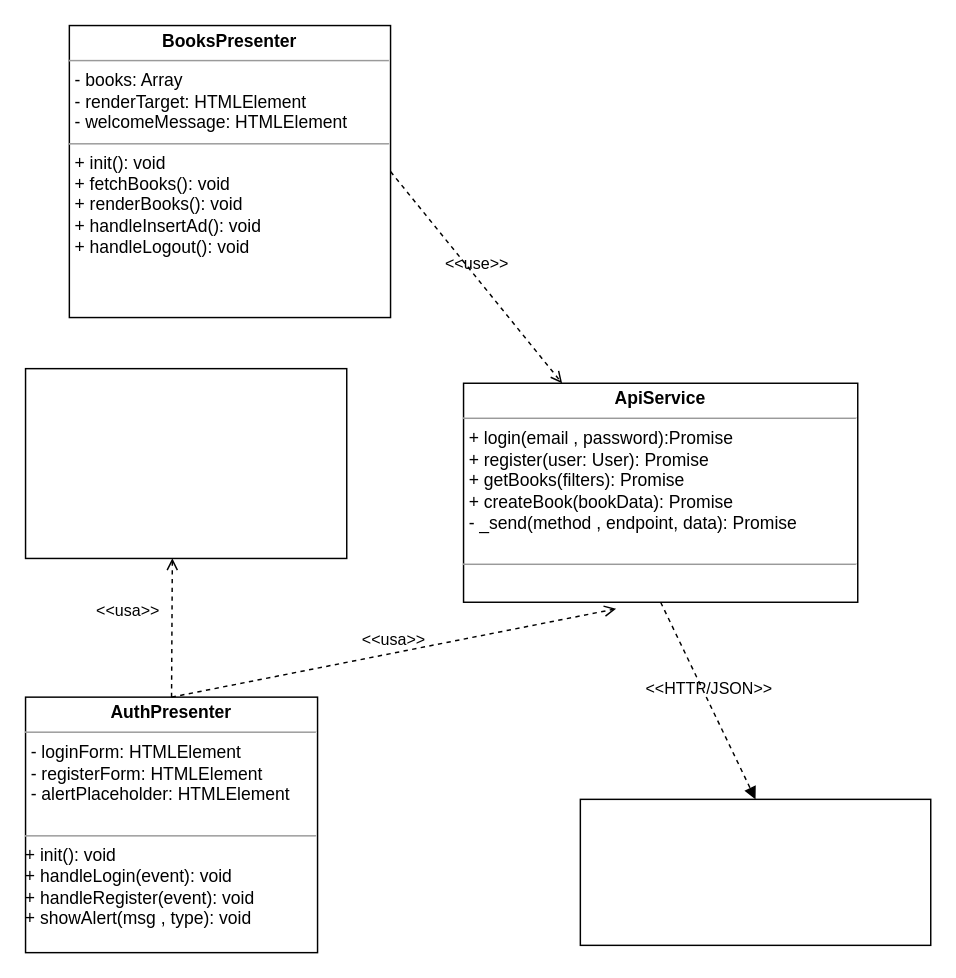
The diagram is 956 pixels wide and 978 high, and some of its shapes have lost their labels. Each missing label, with the box of its shape:
MockServer + init(): void + request(method, endpoint, body): Promise: (579, 798, 931, 945)
User + username: String + email: String +password: String +toJSON(): Object: (24, 367, 347, 558)
